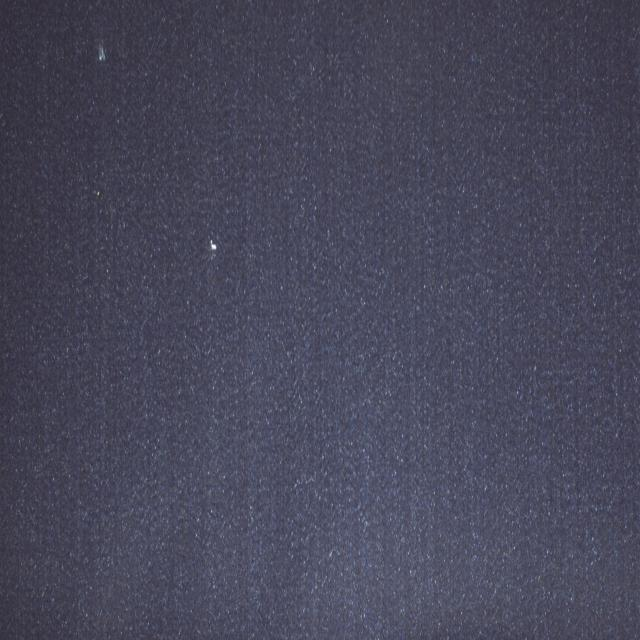Knot: (96, 40, 106, 62), (208, 239, 218, 260)
